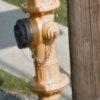Hydrant: (11, 0, 72, 98)
